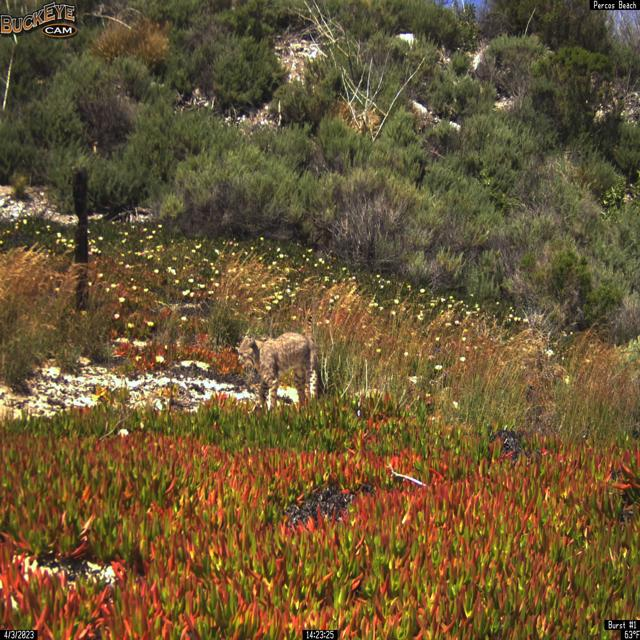bobcat: (236, 330, 322, 413)
